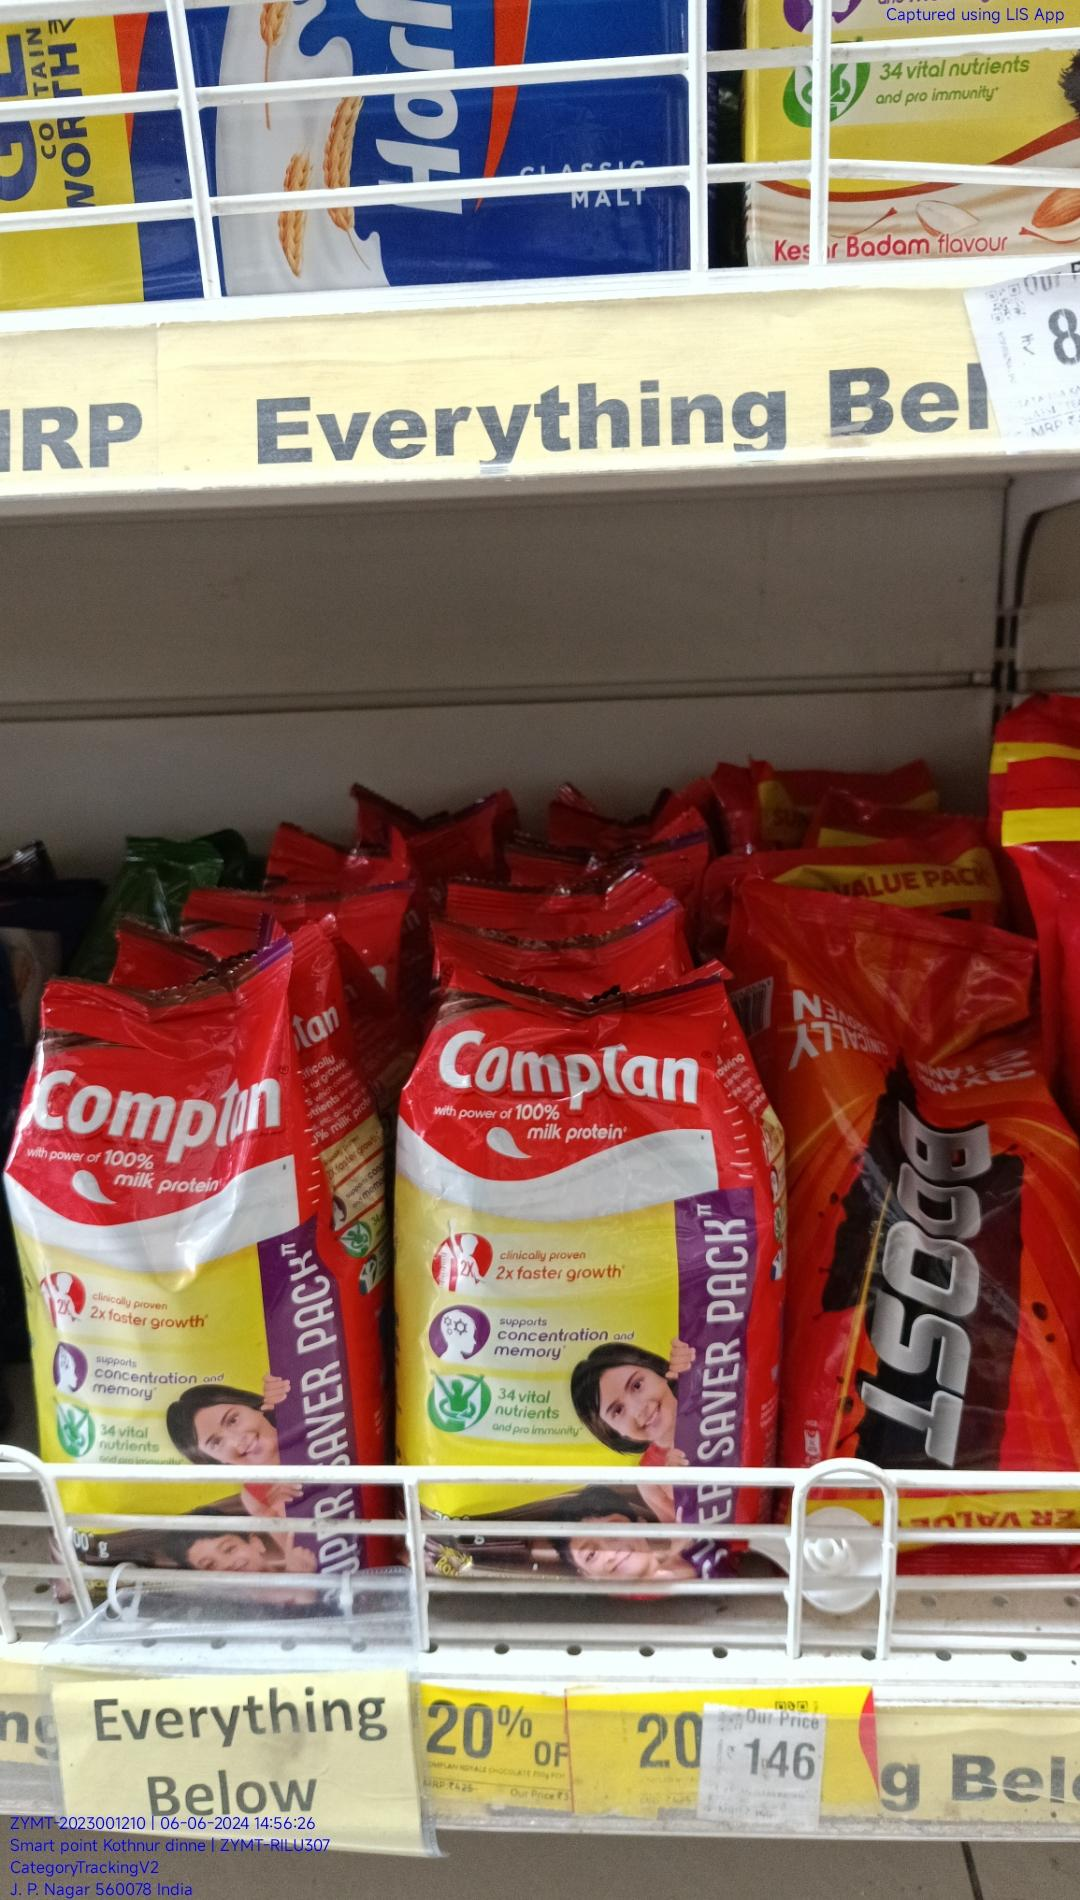COMPLAN_RC_POUCH_700_GMS_12: (407, 993, 777, 1582), (38, 984, 368, 1591)
